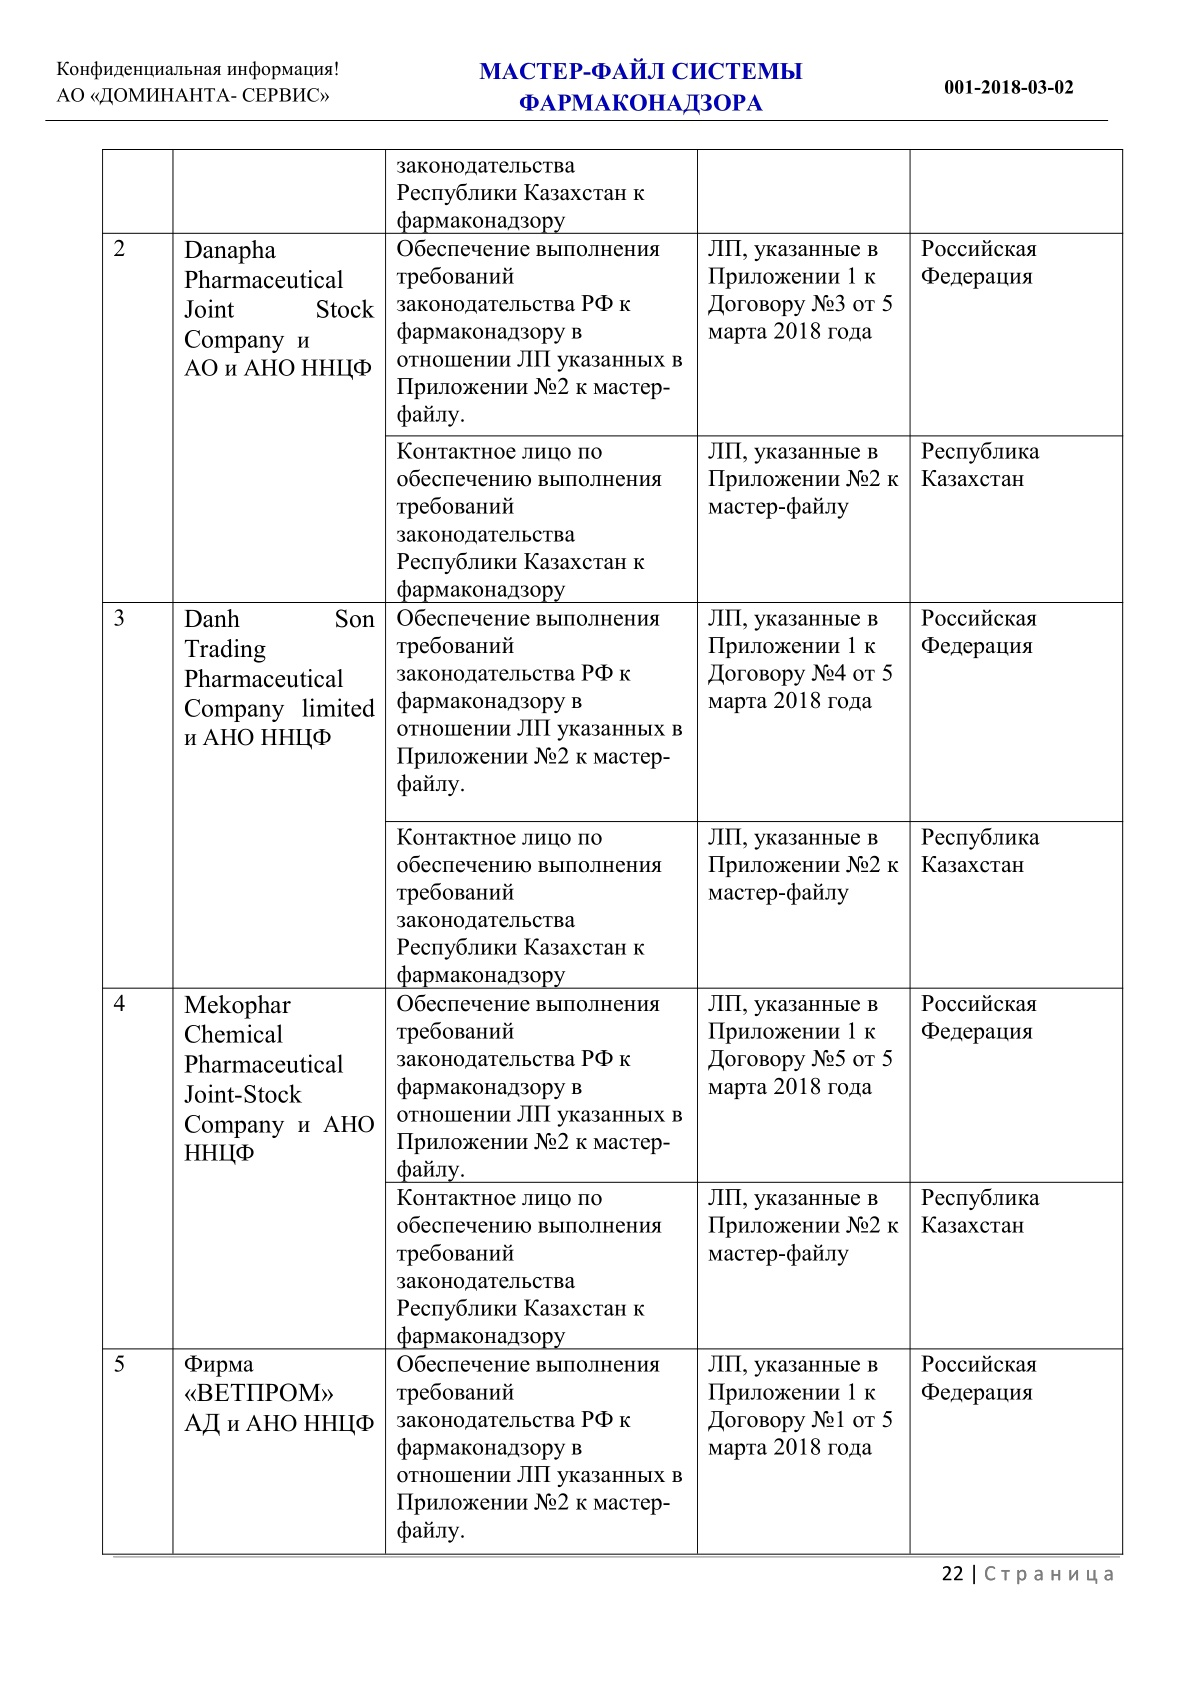full_lined: (101, 147, 1124, 1556)
